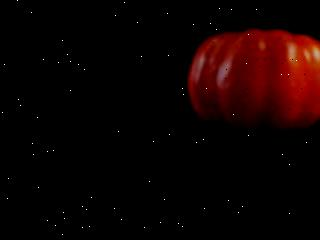Pumpkin: (187, 29, 320, 137)
